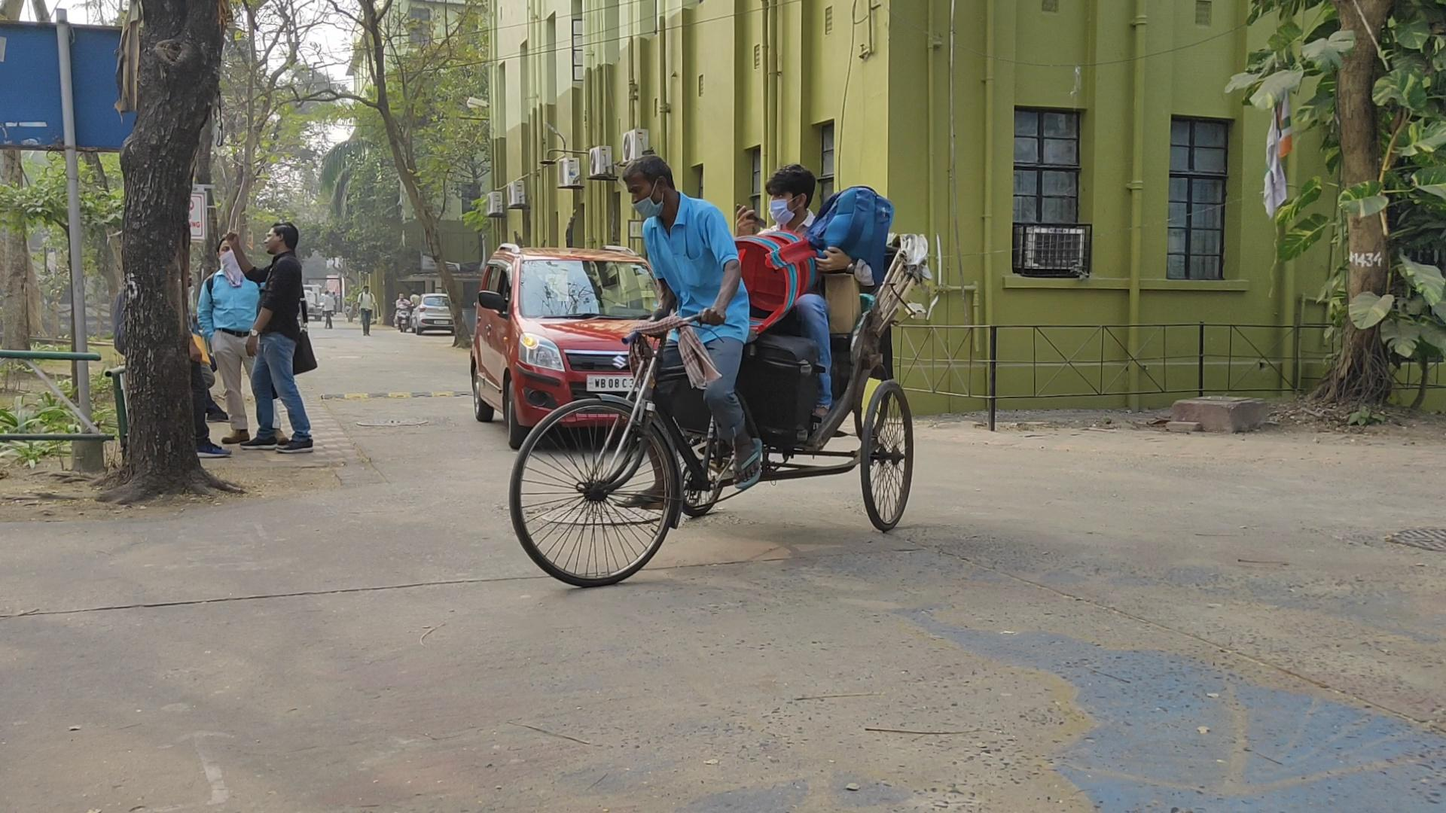bike: (392, 294, 411, 333)
car: (470, 241, 679, 452), (410, 292, 451, 335)
